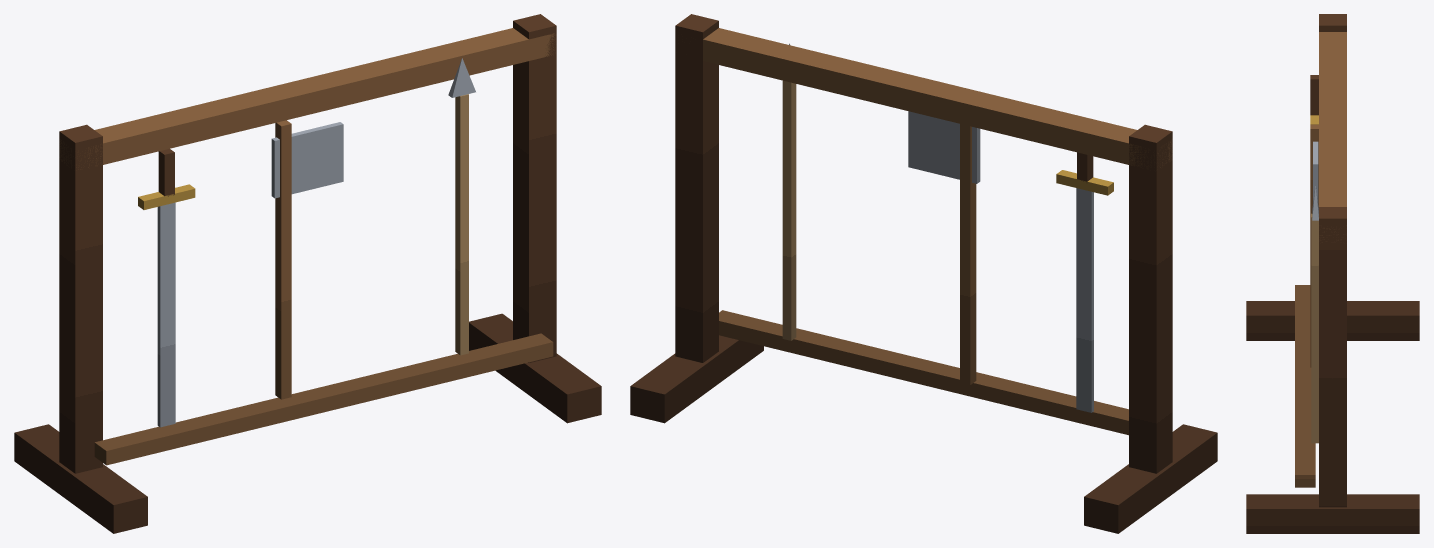
File: weapon_rack.glb
The picture shows the model from 3 angles, left to right: view 1: azimuth 30°, elevation 25°; view 2: azimuth 150°, elevation 25°; view 3: azimuth 270°, elevation 25°; orthographic projection. The views are drawn at different scales.
Size of the model in its own units: 1.42 by 1 by 0.5.
1 material, 1 textured.
